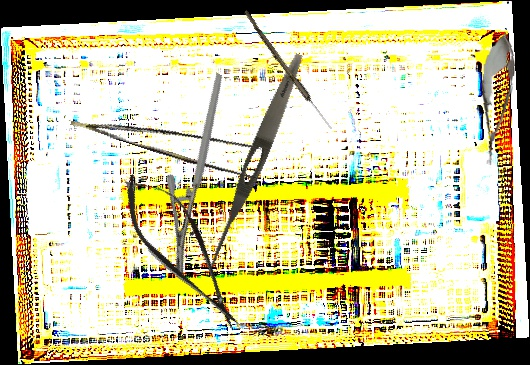Dressing Forceps: (203, 50, 309, 272)
Micro Scissor: (106, 159, 260, 343), (472, 30, 520, 167)
Needle Holder: (118, 72, 282, 277)
Surgical Spoon: (241, 10, 335, 131)
Tissue Forceps: (70, 90, 270, 186)
